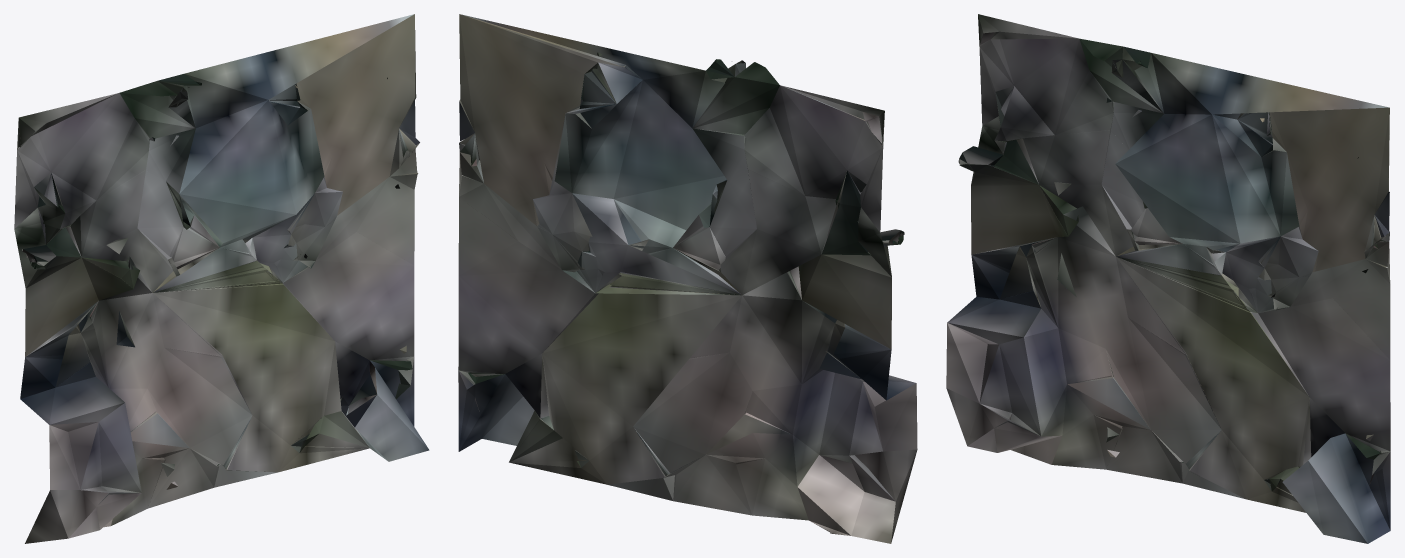
File: Tile_+032_+022_L13.obj
3 views of the same model, side by side, from view 1: azimuth 30°, elevation 25°; view 2: azimuth 150°, elevation 25°; view 3: azimuth 330°, elevation 25° (orthographic). The views are drawn at different scales.
Size of the model in its own units: 250 by 250 by 42.08.
Materials: 1 (1 with a texture image).
